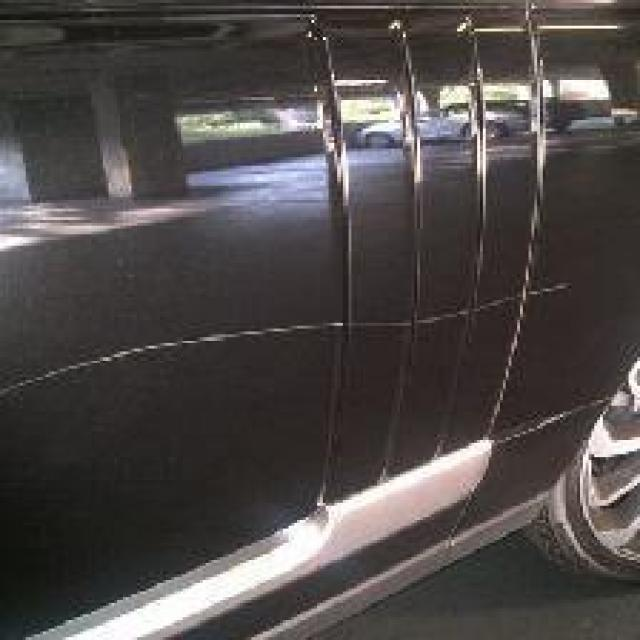damaged: (3, 282, 583, 398)
